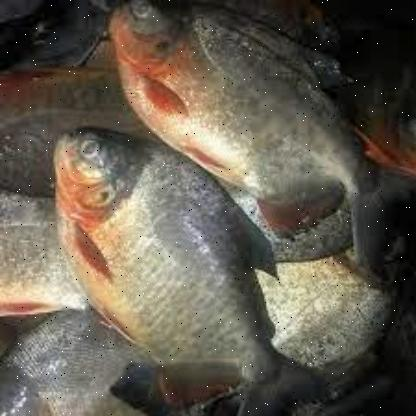ikan-pacu: (53, 126, 277, 376), (110, 0, 387, 200)
